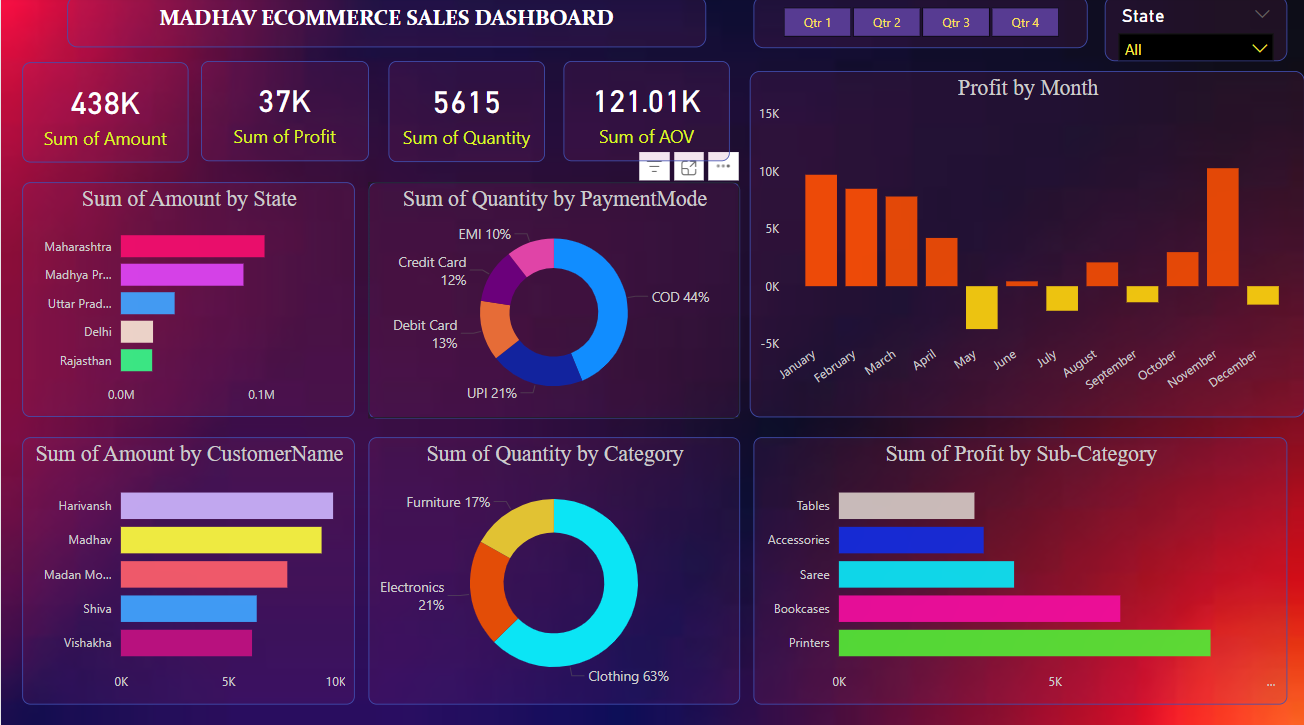

The dashboard page shown, as its layout file describes it:
{"tool":"powerbi","page":{"name":"Page 1","canvas":[1280,720],"ordinal":0},"visuals":[{"type":"textbox","box":[65,0,627,50.3],"z":0},{"type":"clusteredColumnChart","title":"Profit by Month","fields":{"Category":["Orders.Order Date.Variation.Date Hierarchy.Month","Orders.Order Date.Variation.Date Hierarchy.Day"],"Y":["Details.Profit"]},"box":[735,73.6,544.8,339.9],"z":1000},{"type":"clusteredBarChart","fields":{"Category":["Details.Sub-Category"],"Y":["Details.Profit"]},"box":[738.7,433.1,523.9,262.6],"z":2000},{"type":"donutChart","fields":{"Category":["Details.Category"],"Y":["Details.Quantity"]},"box":[360.7,433.1,364.4,262.6],"z":3000},{"type":"donutChart","fields":{"Y":["Details.Quantity"],"Category":["Details.PaymentMode"]},"box":[360.7,182.8,364.4,231.9],"z":4000},{"type":"card","fields":{"Values":["Details.Amount"]},"box":[20.9,65,163.2,98.2],"z":5000},{"type":"card","fields":{"Values":["Details.Profit"]},"box":[196.3,63.8,164.4,98.2],"z":6000},{"type":"card","fields":{"Values":["Details.AOV"]},"box":[552.2,63.8,163.2,98.2],"z":7000},{"type":"card","fields":{"Values":["Details.Quantity"]},"box":[380.4,63.8,153.4,99.4],"z":8000},{"type":"clusteredBarChart","fields":{"Category":["Orders.State"],"Y":["Details.Amount"]},"box":[20.9,182.8,326.4,230.7],"z":9000},{"type":"clusteredBarChart","fields":{"Category":["Orders.CustomerName"],"Y":["Details.Amount"]},"box":[20.9,433.1,326.4,262.6],"z":10000},{"type":"slicer","fields":{"Values":["Orders.Order Date.Variation.Date Hierarchy.Quarter"]},"box":[738.7,0,327.6,51.5],"z":11000},{"type":"slicer","fields":{"Values":["Orders.State"]},"box":[1083.4,0,179.1,63.8],"z":12000}]}

Visuals, with their boxes in screenshot pixels (x1, y1, x2, y2), scaled from the page's 1280x720 canvas onto the 1304x725 screenshot:
textbox: <box>66,0,705,51</box>
"Profit by Month" clusteredColumnChart: <box>749,74,1303,416</box>
clusteredBarChart - Details.Sub-Category x Details.Profit: <box>753,436,1286,701</box>
donutChart - Details.Category x Details.Quantity: <box>367,436,739,701</box>
donutChart - Details.Quantity x Details.PaymentMode: <box>367,184,739,418</box>
card - Details.Amount: <box>21,65,188,164</box>
card - Details.Profit: <box>200,64,367,163</box>
card - Details.AOV: <box>563,64,729,163</box>
card - Details.Quantity: <box>388,64,544,164</box>
clusteredBarChart - Orders.State x Details.Amount: <box>21,184,354,416</box>
clusteredBarChart - Orders.CustomerName x Details.Amount: <box>21,436,354,701</box>
slicer - Orders.Order Date.Variation.Date Hierarchy.Quarter: <box>753,0,1086,52</box>
slicer - Orders.State: <box>1104,0,1286,64</box>
